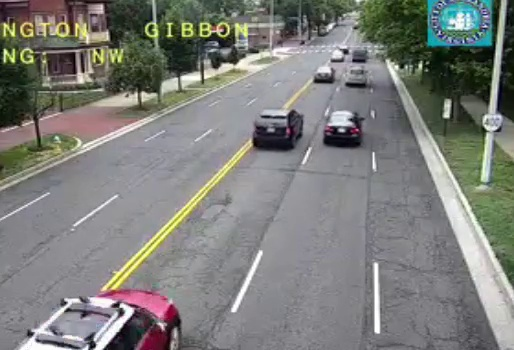car: (253, 109, 303, 147), (324, 111, 362, 142), (344, 66, 366, 85), (313, 66, 335, 83)
